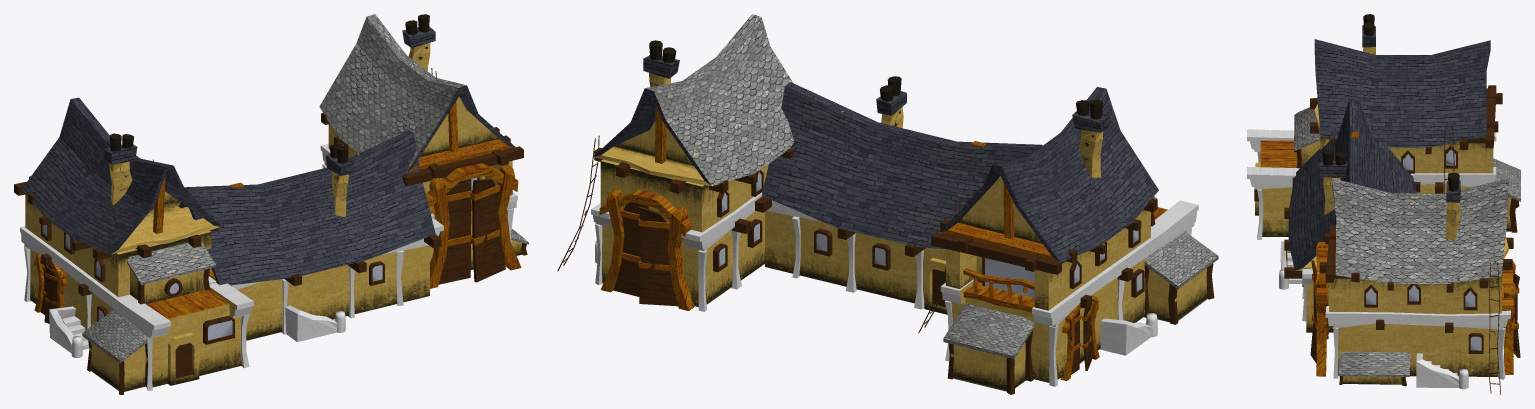
Rendered from maison04.FBX.
3 views of the same model, side by side, from view 1: azimuth 30°, elevation 25°; view 2: azimuth 150°, elevation 25°; view 3: azimuth 270°, elevation 25° (orthographic). The views are drawn at different scales.
Visible parts, largest first — view 1: maison04; view 2: maison04; view 3: maison04.
Part boxes in pixels (x1,y1,x2,y2): maison04: (14, 14, 528, 394); maison04: (557, 14, 1218, 394); maison04: (1247, 14, 1520, 394).
Size of the model in its own units: 15.23 by 6.4 by 8.24.
